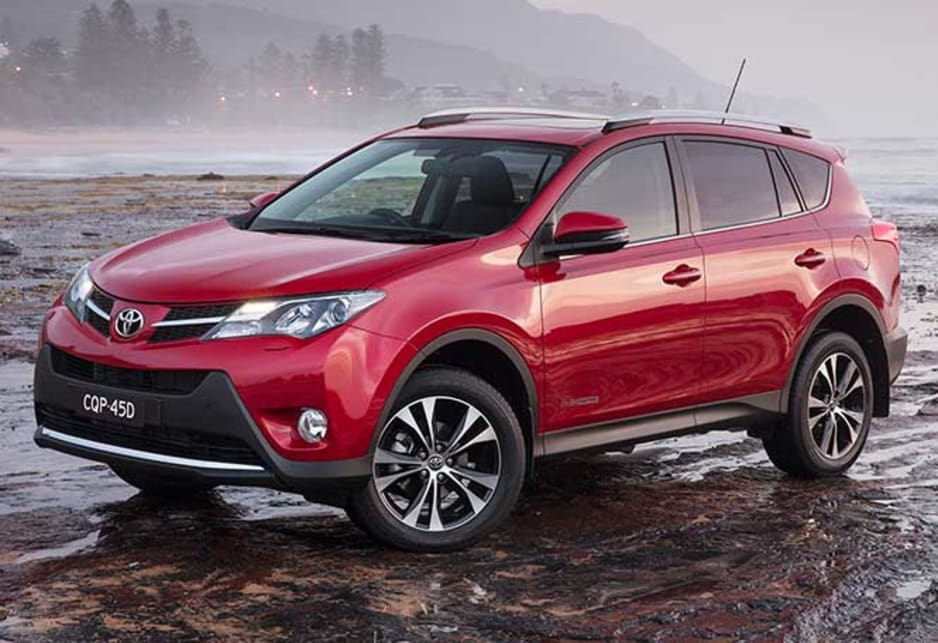Toyota RAV-4: (29, 103, 910, 555)
